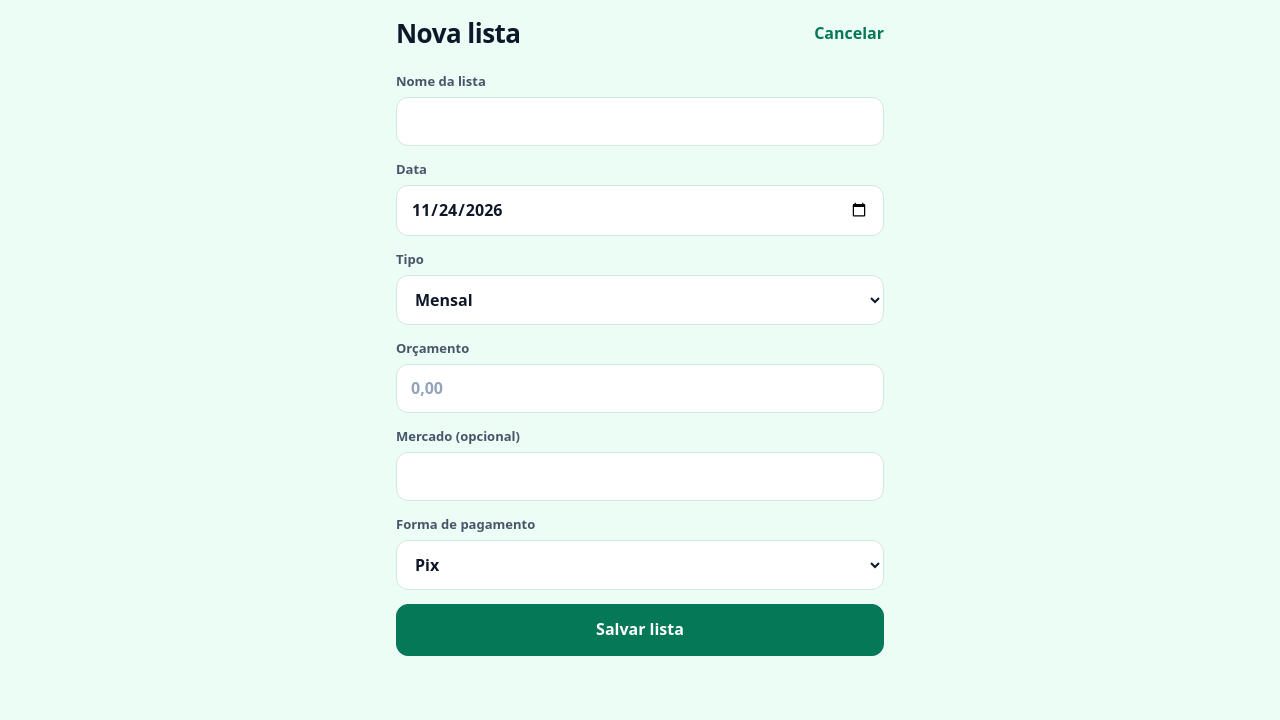
Test: CA-R5: lista nasce em planejamento e abre no detalhe › salva com status planejamento e cai na tela de detalhe da lista criada
Type "Feira da semana" into the field labelled "Nome da lista". click: point(640, 121)
box: [396,97,884,146]
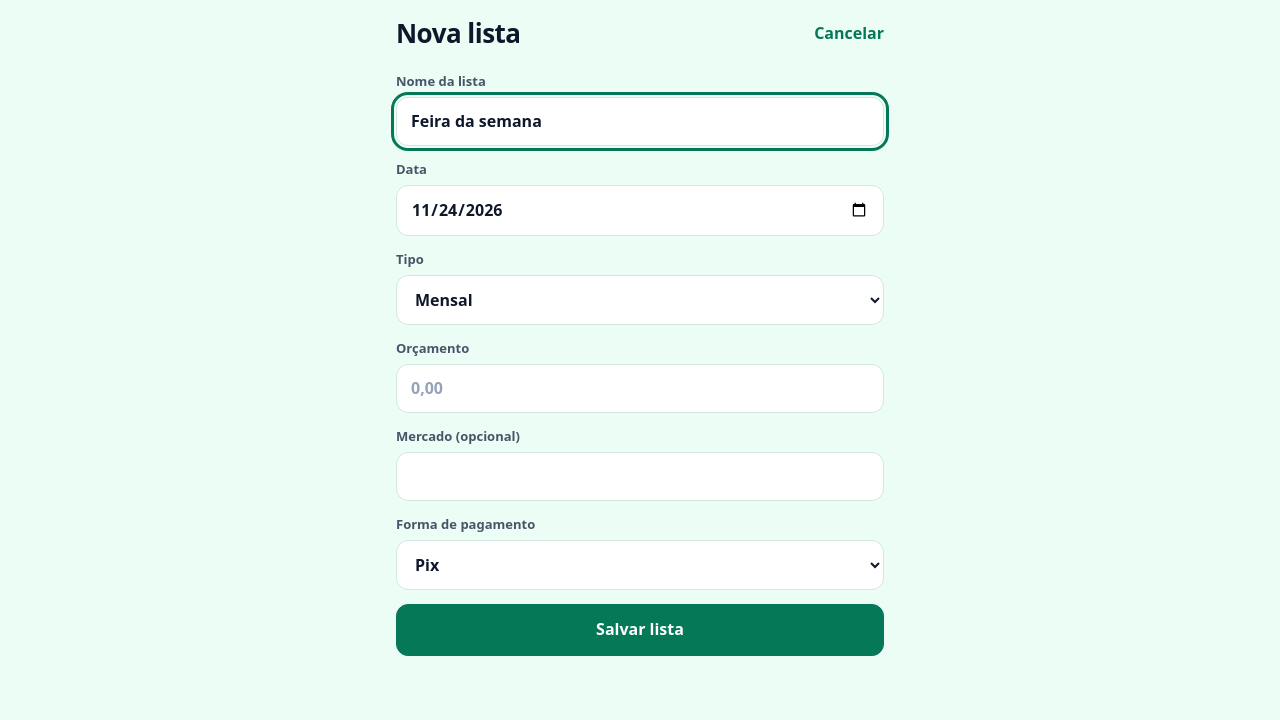
Type "2026-11-25" into the date field labelled "Data". click: point(640, 210)
box: [396,185,884,236]
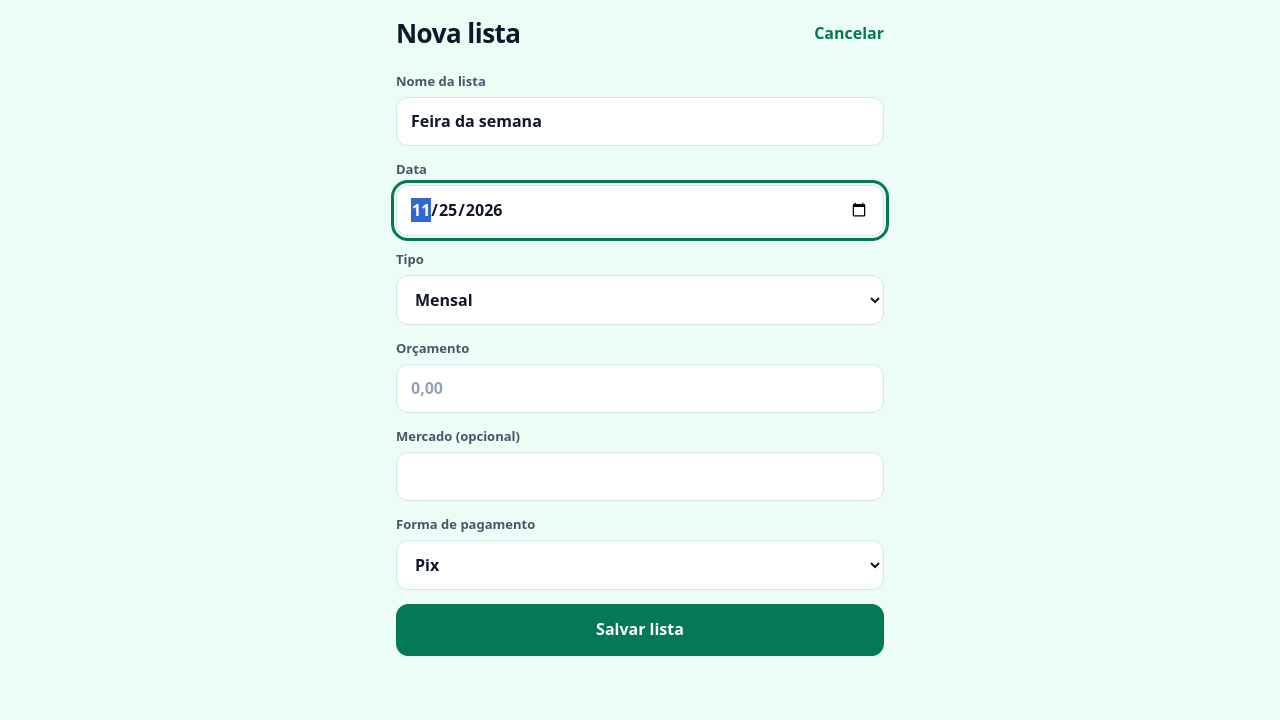
Type "25000" into the field labelled "Orçamento". click: point(640, 388)
box: [396,364,884,413]
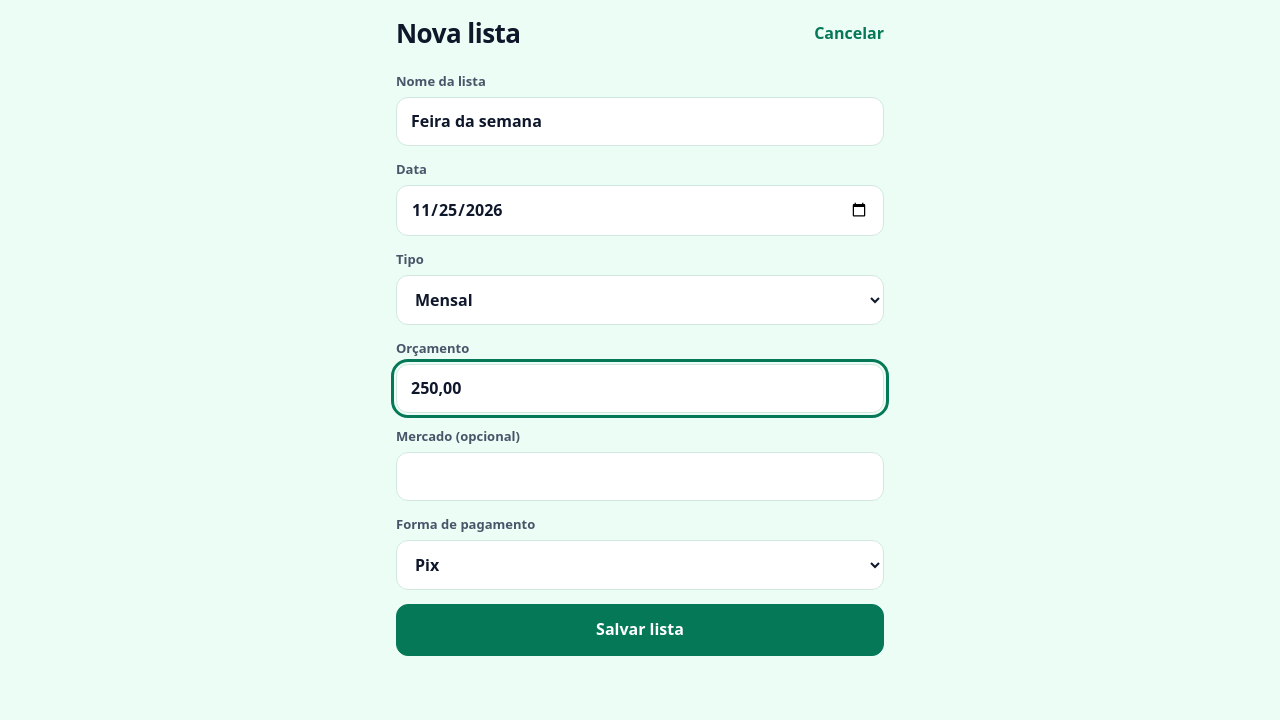
Click the button "Salvar lista". click: point(640, 630)
box: [396,604,884,656]
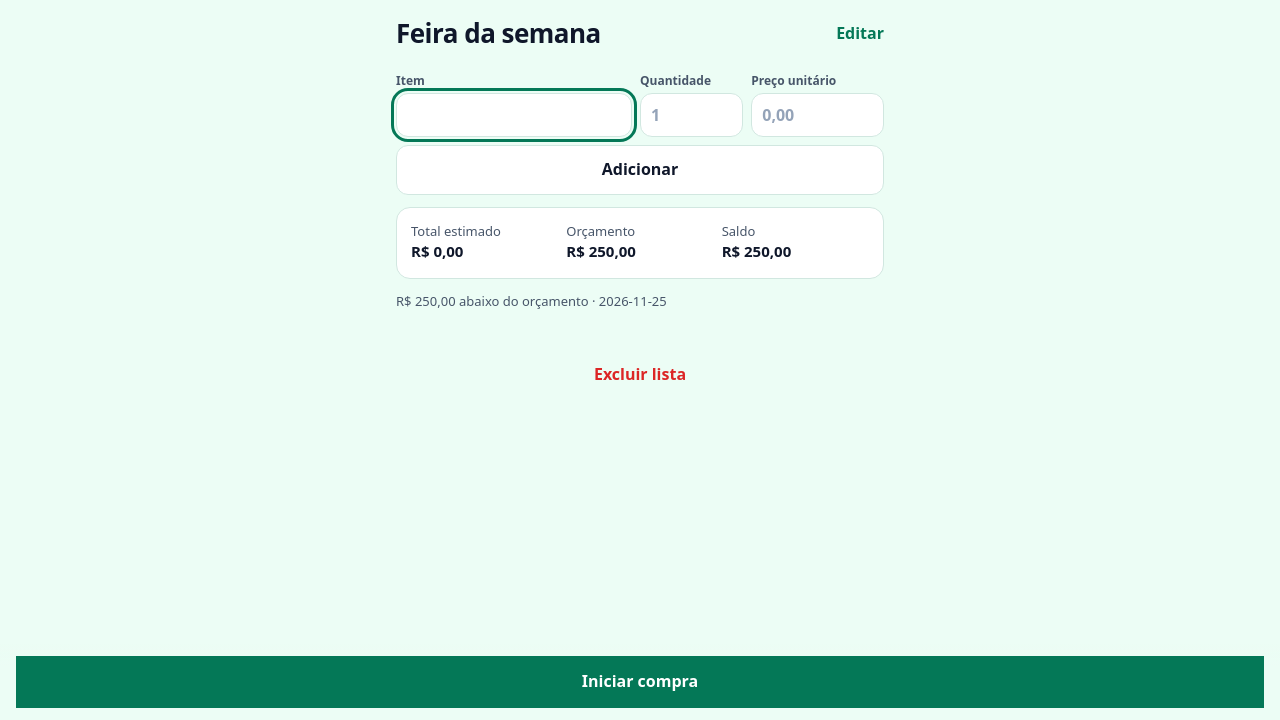
expect the heading "Feira da semana" is shown: met, box [396,19,601,49]
expect the text with test id "orcamento" reads "R$ 250,00": met, box [566,241,636,261]
